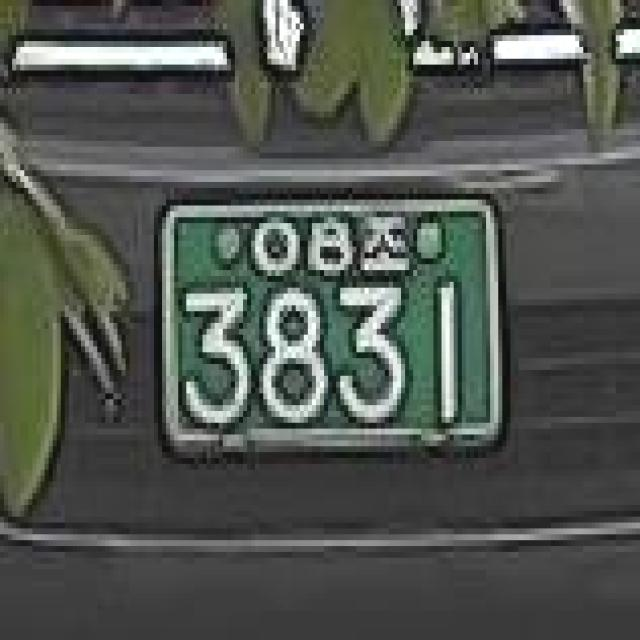illegal_plate: (145, 177, 516, 478)
